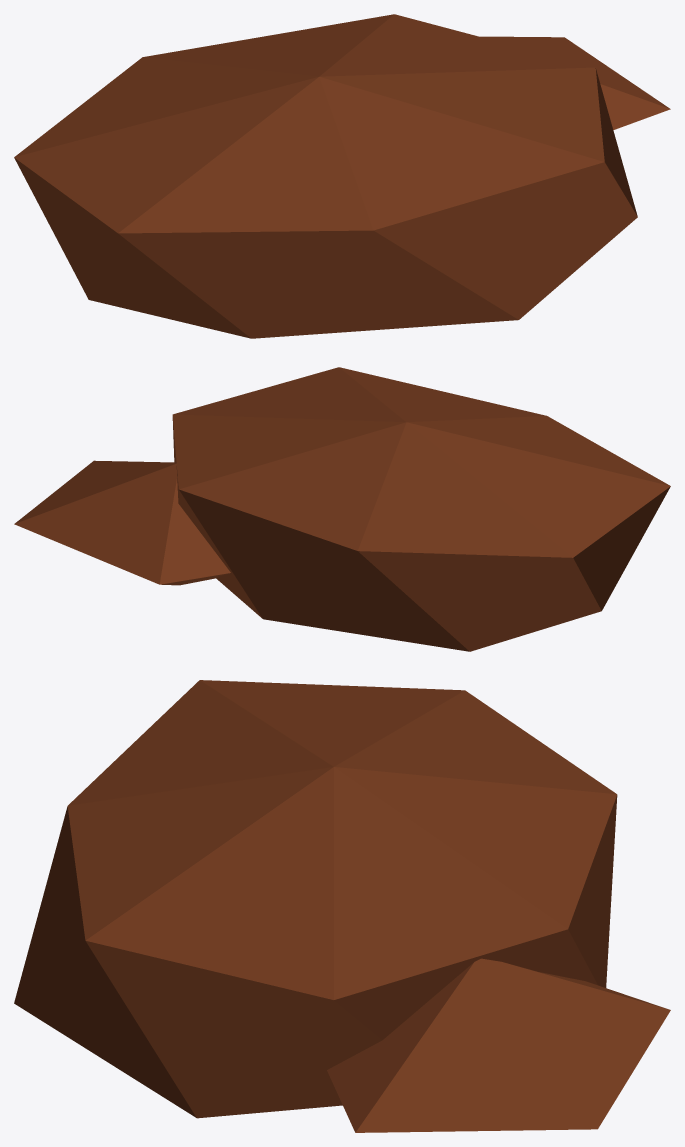
The model's file is SM_Prop_Rag.glb.
3 views of the same model, one above another, from view 1: azimuth 30°, elevation 25°; view 2: azimuth 150°, elevation 25°; view 3: azimuth 270°, elevation 25° (orthographic). The views are drawn at different scales.
Parts seen in each view (by area): view 1: SM_Prop_Rag; view 2: SM_Prop_Rag; view 3: SM_Prop_Rag.
Boxes of the visible parts, x1,y1,x2,y2 form: SM_Prop_Rag: (14, 14, 670, 338); SM_Prop_Rag: (14, 367, 670, 651); SM_Prop_Rag: (14, 680, 670, 1132).
Bounding box in the file's own units: 0.178 × 0.06 × 0.1358.
1 material, 1 textured.
